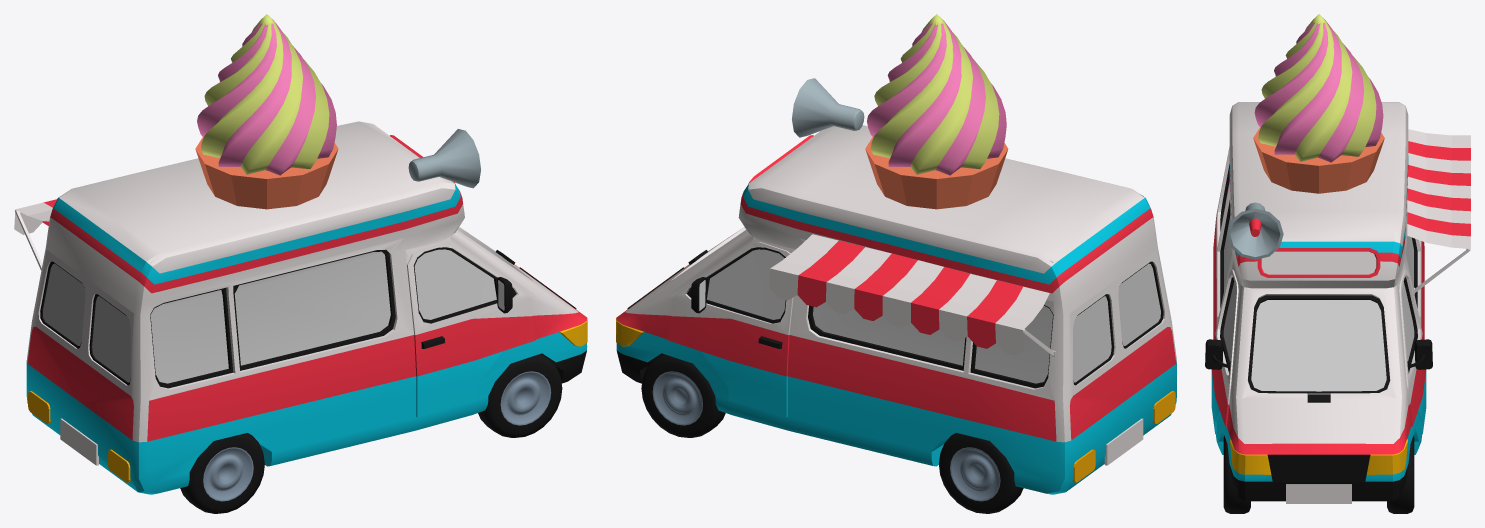
The model's file is car2.fbx.
3 renders of one model, left to right at view 1: azimuth 30°, elevation 25°; view 2: azimuth 150°, elevation 25°; view 3: azimuth 270°, elevation 25°, orthographic. The views are drawn at different scales.
Visible parts, largest first — view 1: Transport2; view 2: Transport2; view 3: Transport2.
Part boxes in pixels (left/top/right/bottom): Transport2: left=14, top=14, right=587, bottom=513; Transport2: left=616, top=14, right=1176, bottom=513; Transport2: left=1205, top=14, right=1470, bottom=513.
Bounding box in the file's own units: 281 × 250 × 149.
